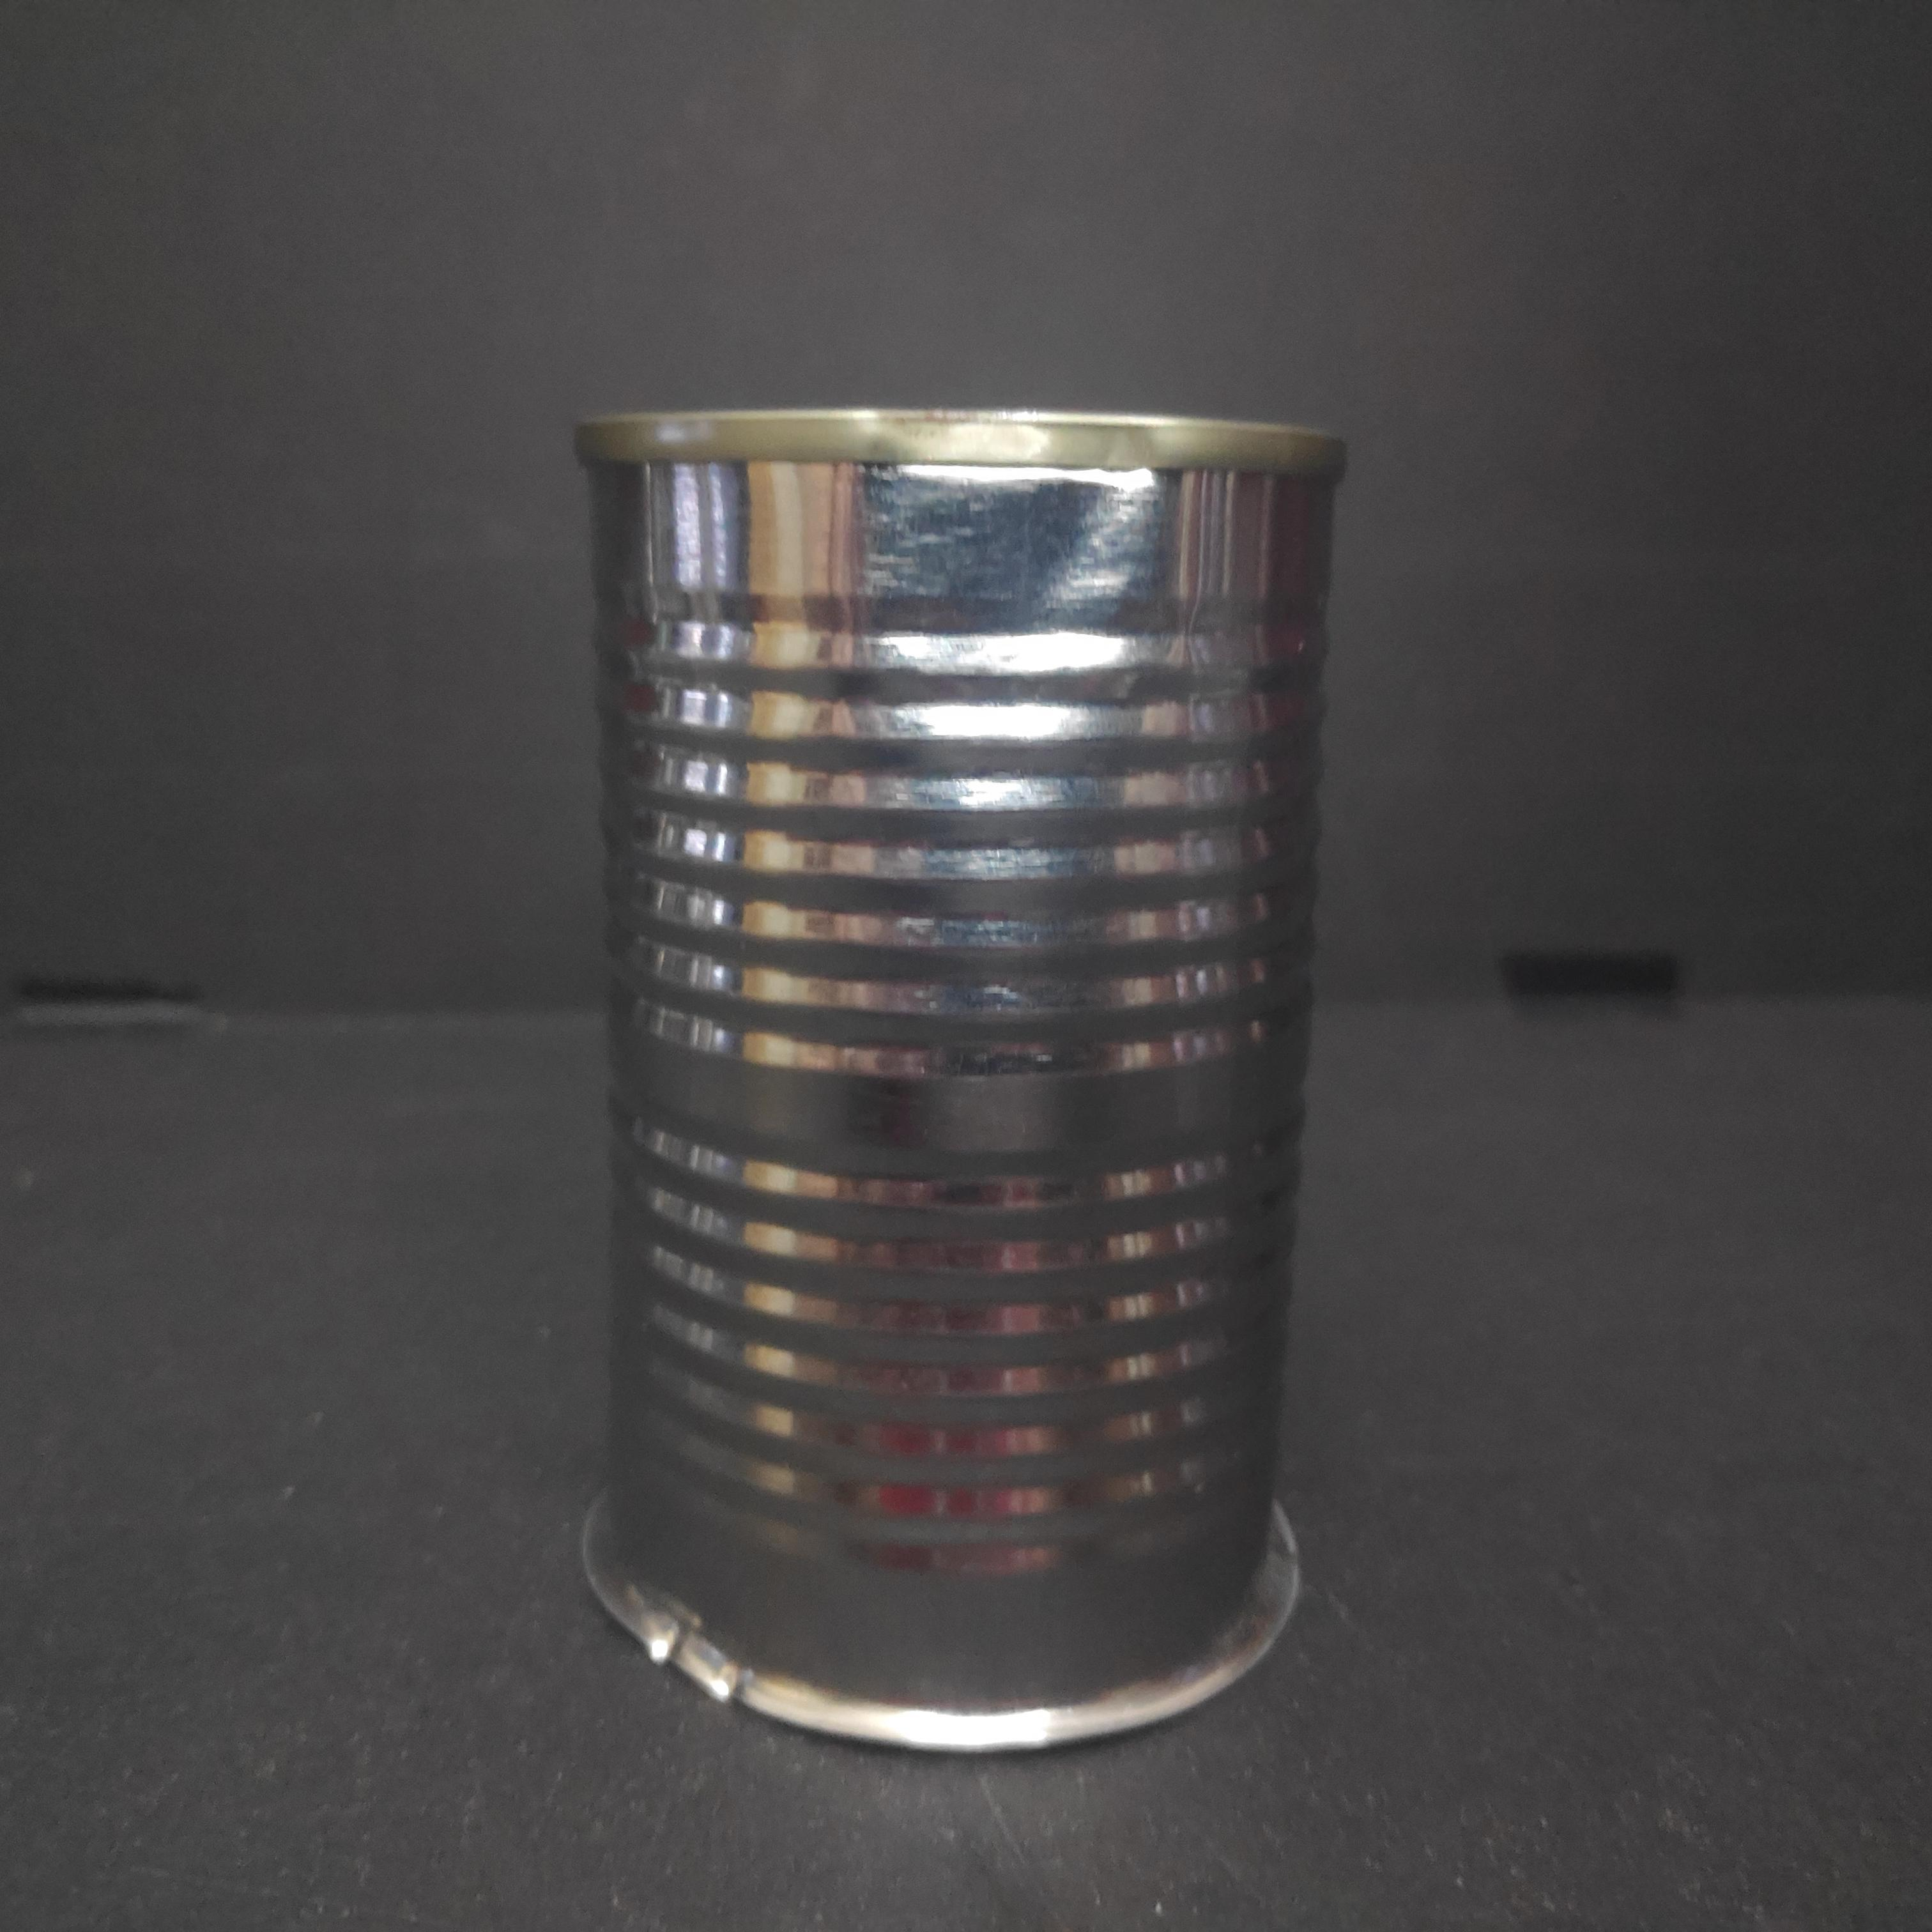Dented: (534, 361, 1355, 1757)
